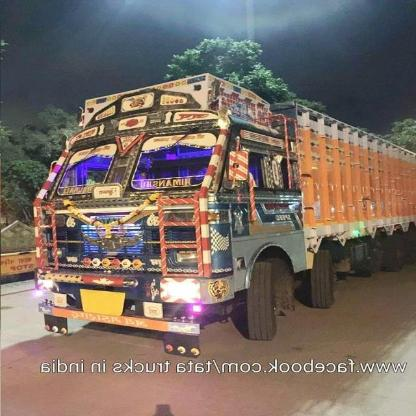truck: (37, 88, 412, 360)
